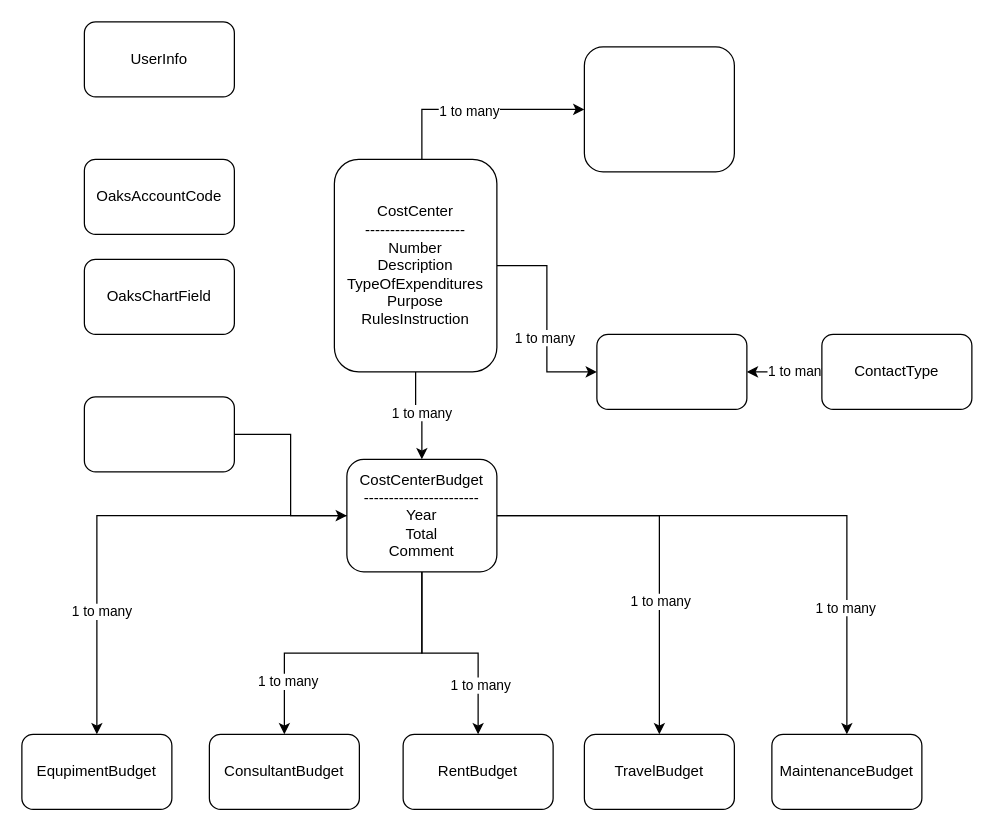
This 994x831 diagram has some shape labels left out. The shapes that lost their labels are listed below. From the top down, each one's box as (x1, y1, x2, y2) in pixels, then its label:
(583, 46, 734, 172): StrategicInitiave -------------------- Year Detail
(596, 333, 747, 409): Contact
(83, 396, 234, 472): ExpenseGroup
